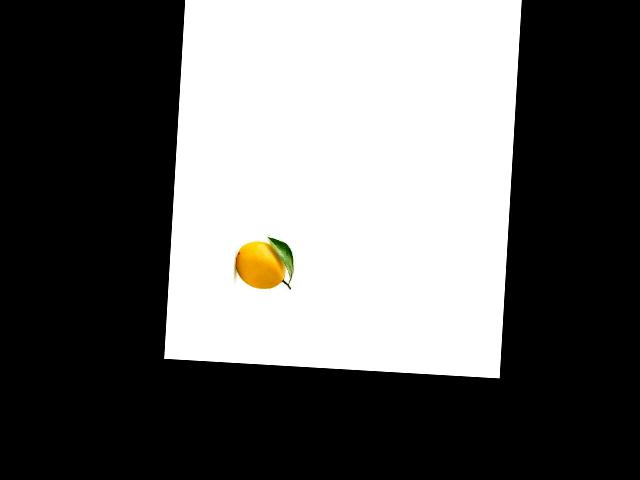lemon: (232, 237, 293, 292)
